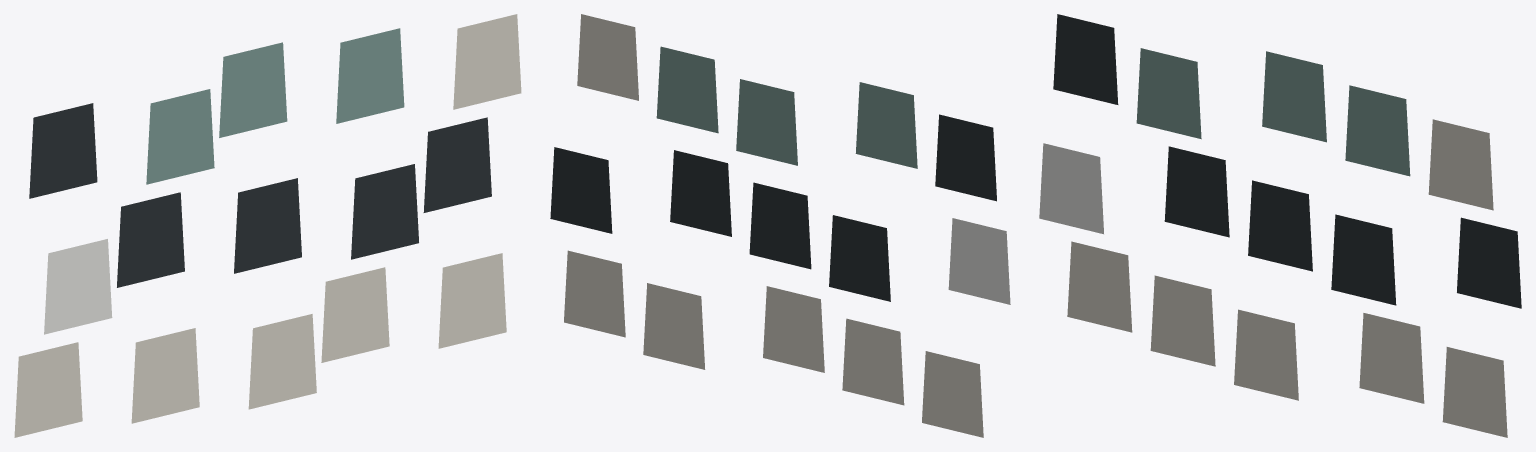
File: origami-pocket-camp-set-prototype.obj
3 views of the same model, side by side, from view 1: azimuth 30°, elevation 25°; view 2: azimuth 150°, elevation 25°; view 3: azimuth 330°, elevation 25° (orthographic). The views are drawn at different scales.
Parts seen in each view (by area): view 1: origami_pocket_chest, shirt_front_L, sleeve_R, origami_pocket_hip_R, shirt_back, waistband, collar_pair, shirt_front_R, sleeve_L, short_back_L, origami_pocket_hip_L, short_front_L (+3 smaller); view 2: origami_pocket_hip_L, sleeve_L, short_front_L, short_back_L, collar_pair, shirt_front_R, shirt_back, sleeve_R, short_back_R, origami_pocket_hip_R, shirt_front_L, short_front_R (+3 smaller); view 3: short_front_L, origami_pocket_hip_L, shirt_front_L, shirt_front_R, short_back_R, waistband, shirt_back, sleeve_L, short_back_L, origami_pocket_chest, origami_pocket_hip_R, collar_pair (+3 smaller).
Part boxes in pixels (box(x1,y1,x2,y2)): origami_pocket_chest: box(146, 89, 214, 184); shirt_front_L: box(14, 342, 82, 437); sleeve_R: box(438, 253, 506, 348); origami_pocket_hip_R: box(336, 28, 404, 123); shirt_back: box(248, 314, 316, 409); waistband: box(29, 103, 97, 198); collar_pair: box(453, 14, 521, 109); shirt_front_R: box(131, 328, 199, 423); sleeve_L: box(321, 267, 389, 362); short_back_L: box(351, 164, 418, 259); origami_pocket_hip_L: box(219, 42, 287, 137); short_front_L: box(117, 192, 184, 287); origami_pocket_hip_L: box(736, 79, 797, 165); sleeve_L: box(643, 283, 705, 369); short_front_L: box(829, 215, 890, 301); short_back_L: box(670, 150, 731, 236); collar_pair: box(577, 14, 638, 100); shirt_front_R: box(842, 318, 904, 405); shirt_back: box(763, 286, 824, 372); sleeve_R: box(564, 250, 625, 337); short_back_R: box(550, 147, 612, 233); origami_pocket_hip_R: box(656, 46, 718, 133); shirt_front_L: box(922, 351, 983, 437); short_front_R: box(749, 182, 811, 269); short_front_L: box(1164, 146, 1229, 237); origami_pocket_hip_L: box(1262, 51, 1326, 142); shirt_front_L: box(1067, 241, 1132, 332); shirt_front_R: box(1150, 275, 1215, 366); short_back_R: box(1457, 217, 1521, 308); waistband: box(1053, 14, 1118, 104); shirt_back: box(1234, 309, 1298, 400); sleeve_L: box(1359, 313, 1424, 403); short_back_L: box(1331, 214, 1396, 305); origami_pocket_chest: box(1136, 48, 1201, 139); origami_pocket_hip_R: box(1345, 85, 1410, 176); collar_pair: box(1428, 119, 1493, 210).
Bounding box in the file's own units: 0.56 × 0.37 × 0.06.
